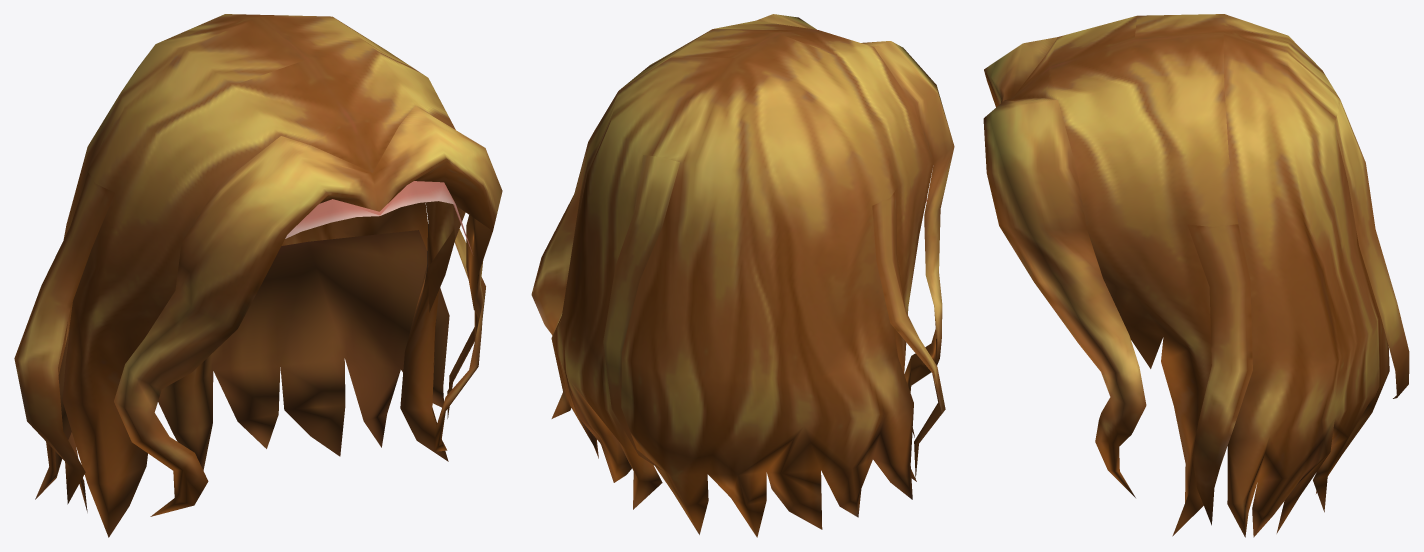
File: hair.FBX
The picture shows the model from 3 angles, left to right: view 1: azimuth 30°, elevation 25°; view 2: azimuth 150°, elevation 25°; view 3: azimuth 270°, elevation 25°; orthographic projection. The views are drawn at different scales.
Visible parts, largest first — view 1: Hair, shadowhair; view 2: Hair; view 3: Hair.
Boxes of the visible parts, bbox=[...] form: Hair: bbox=[14, 14, 502, 537]; shadowhair: bbox=[285, 181, 472, 253]; Hair: bbox=[531, 14, 954, 537]; Hair: bbox=[983, 14, 1409, 537].
Size of the model in its own units: 15.69 by 16.34 by 13.57.
